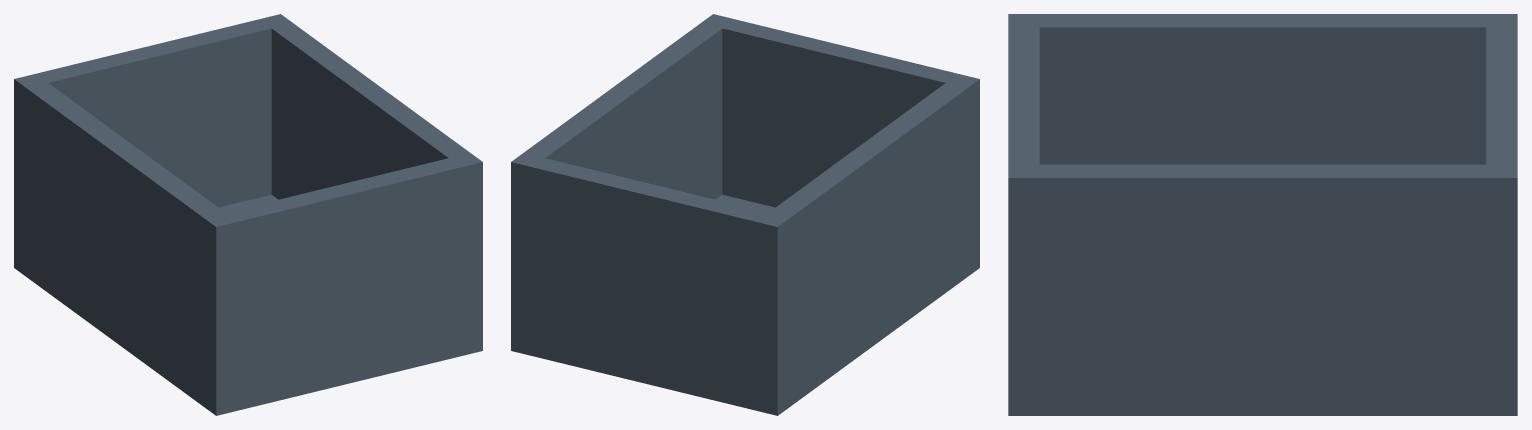
Rendered from bin-display.glb.
3 renders of one model, left to right at view 1: azimuth 30°, elevation 25°; view 2: azimuth 150°, elevation 25°; view 3: azimuth 270°, elevation 25°, orthographic. The views are drawn at different scales.
Visible parts, largest first — view 1: part__00; view 2: part__00; view 3: part__00.
Part boxes in pixels (box(x1,y1,x2,y2)): part__00: box(14, 14, 482, 415); part__00: box(511, 14, 979, 415); part__00: box(1008, 14, 1517, 415).
Size of the model in its own units: 0.3269 by 0.2212 by 0.4293.
